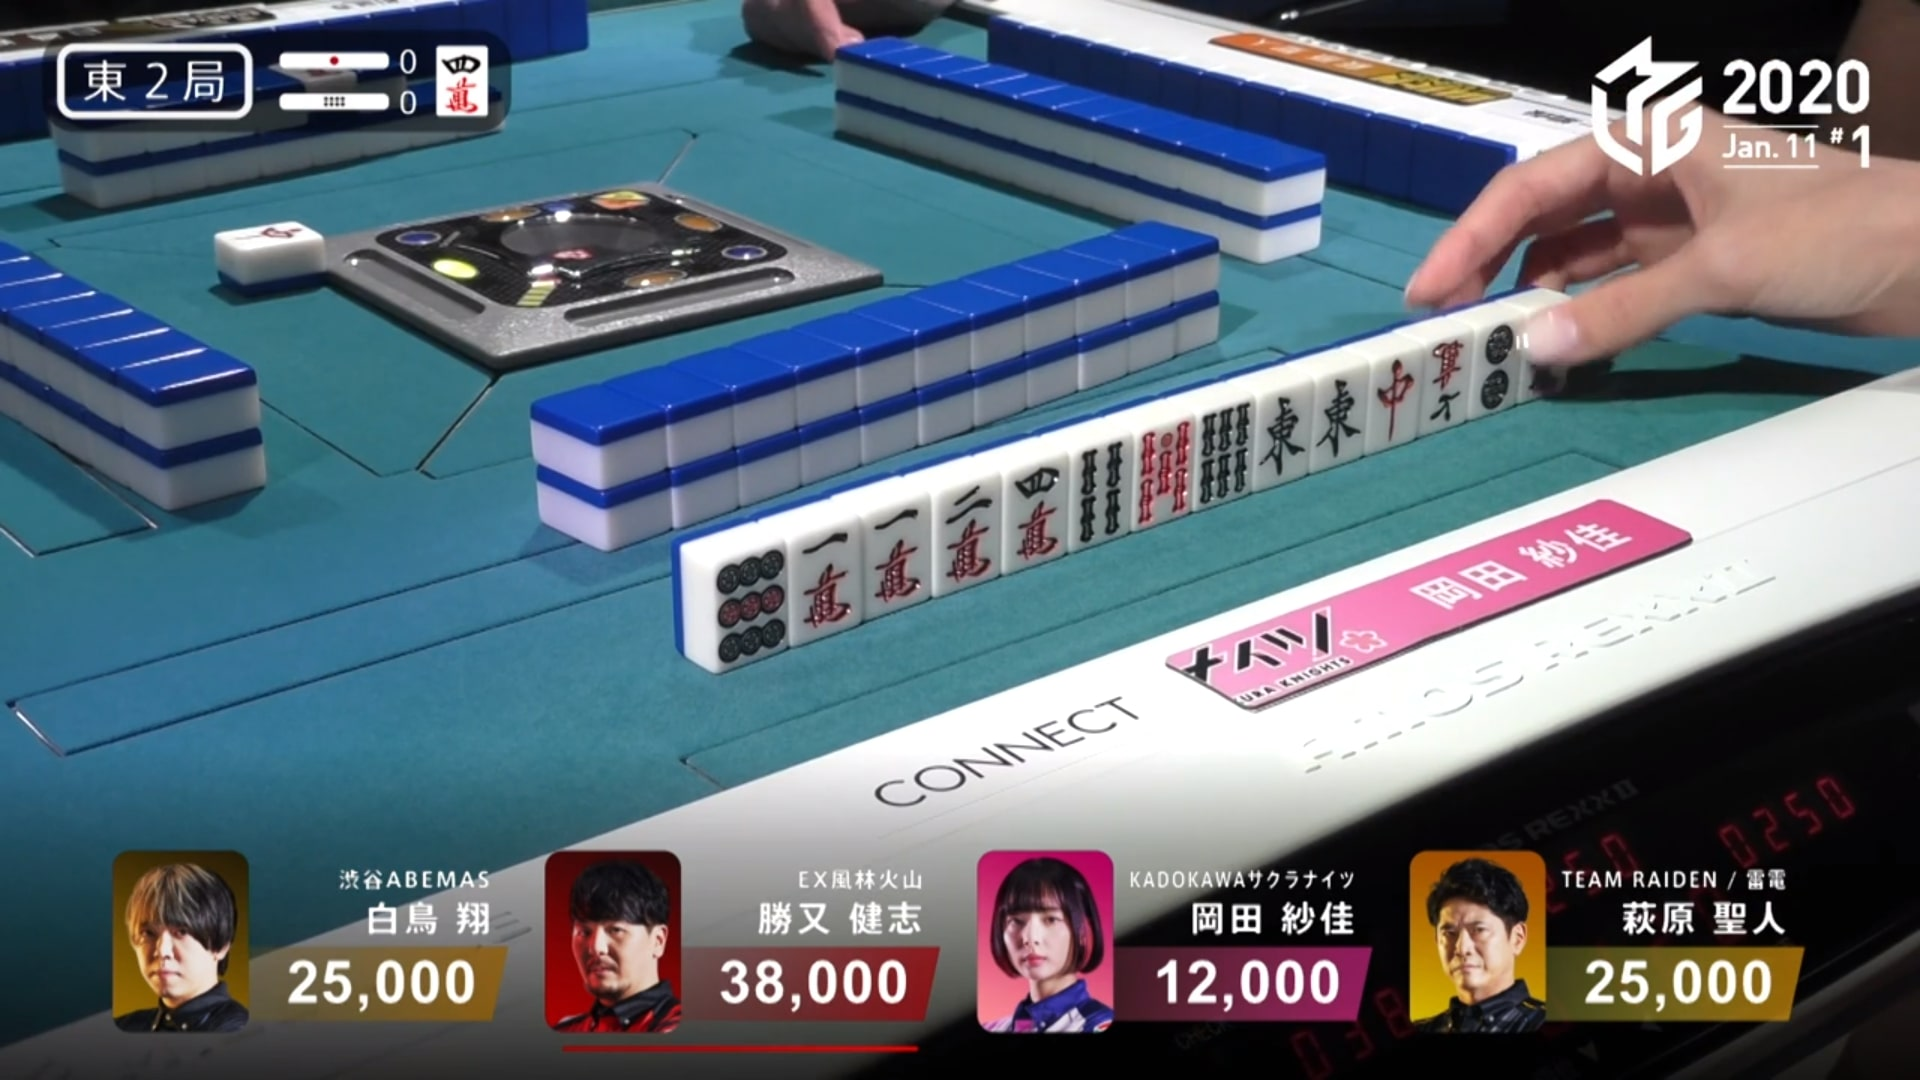1m: (789, 522, 858, 634), (864, 502, 930, 607)
2m: (932, 480, 1004, 585)
2p: (1476, 320, 1519, 410)
4m: (1004, 463, 1063, 563)
4s: (1067, 439, 1130, 546)
5sr: (1127, 421, 1189, 522)
6s: (1193, 398, 1255, 500)
7m: (1422, 334, 1470, 430)
9p: (707, 545, 789, 663)
chun: (1365, 345, 1415, 450)
hand_ton_2: (47, 36, 262, 123)
round_0: (273, 83, 426, 117)
team_kadokawa: (1167, 582, 1440, 709)
ton: (1255, 382, 1302, 484), (1317, 367, 1362, 467)
